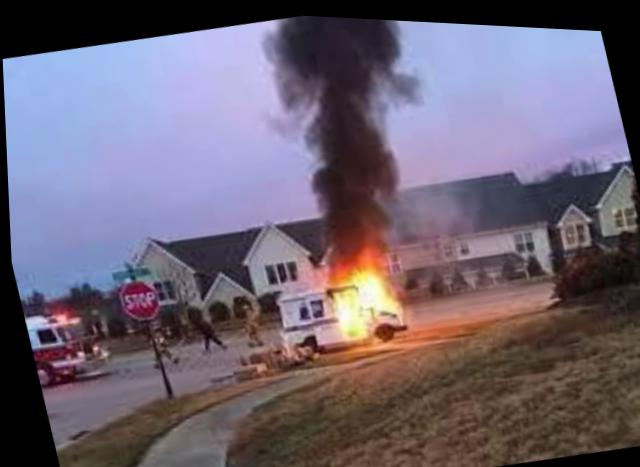fire: (307, 240, 424, 346)
